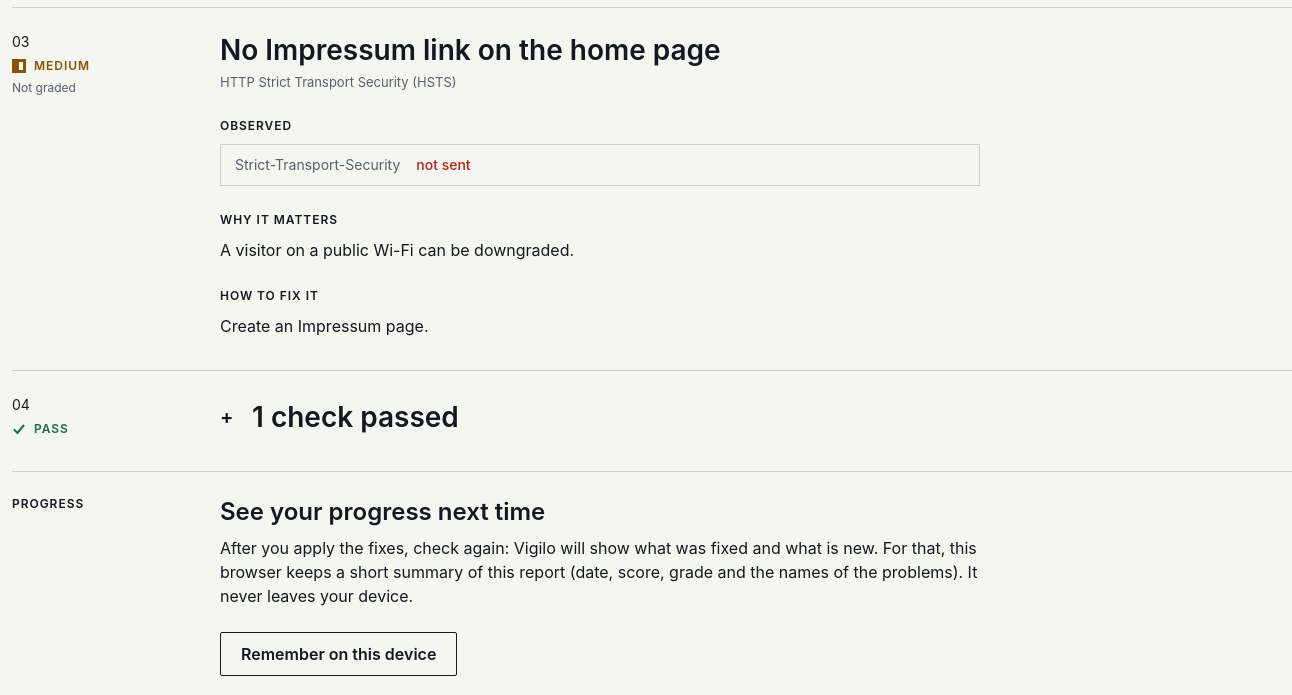
Test: Report › folds passed checks until asked
The image size is (1292, 695).
(page scrolled)
Click the button "+ 1 check passed".
click(339, 417)  # box [220,395,459,439]
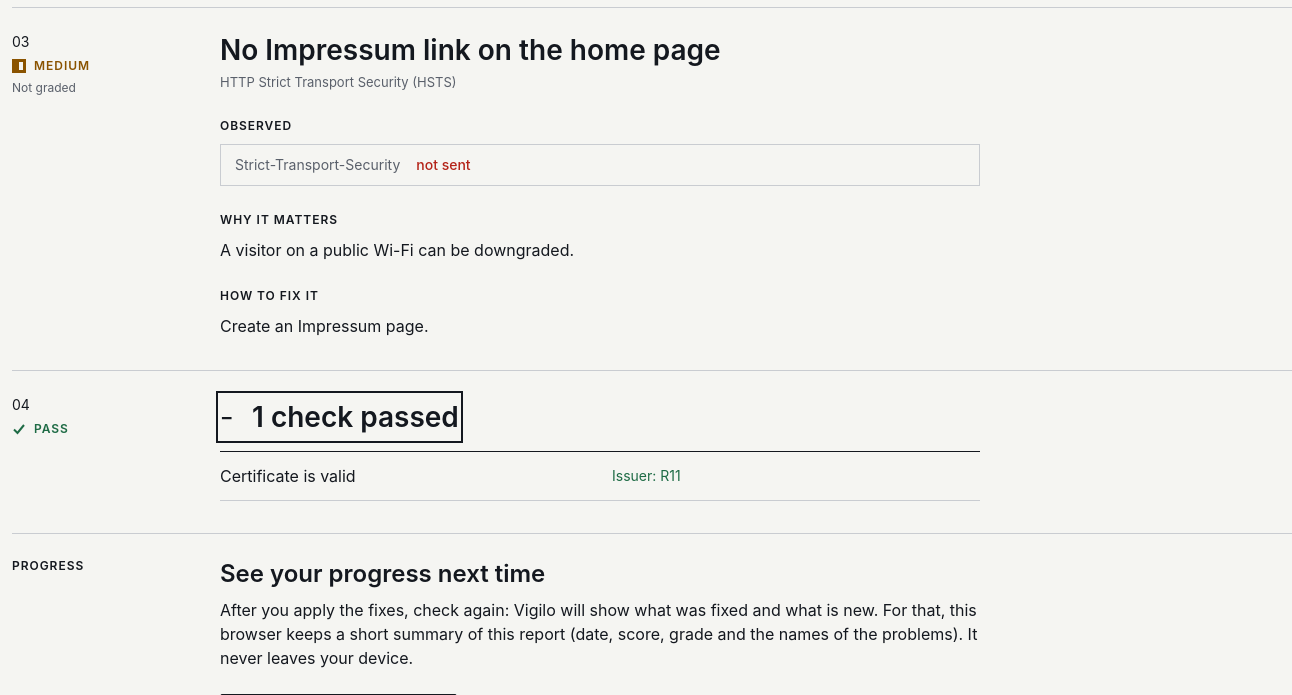
Result: the text "Certificate is valid" is shown at [220,464,356,488]
